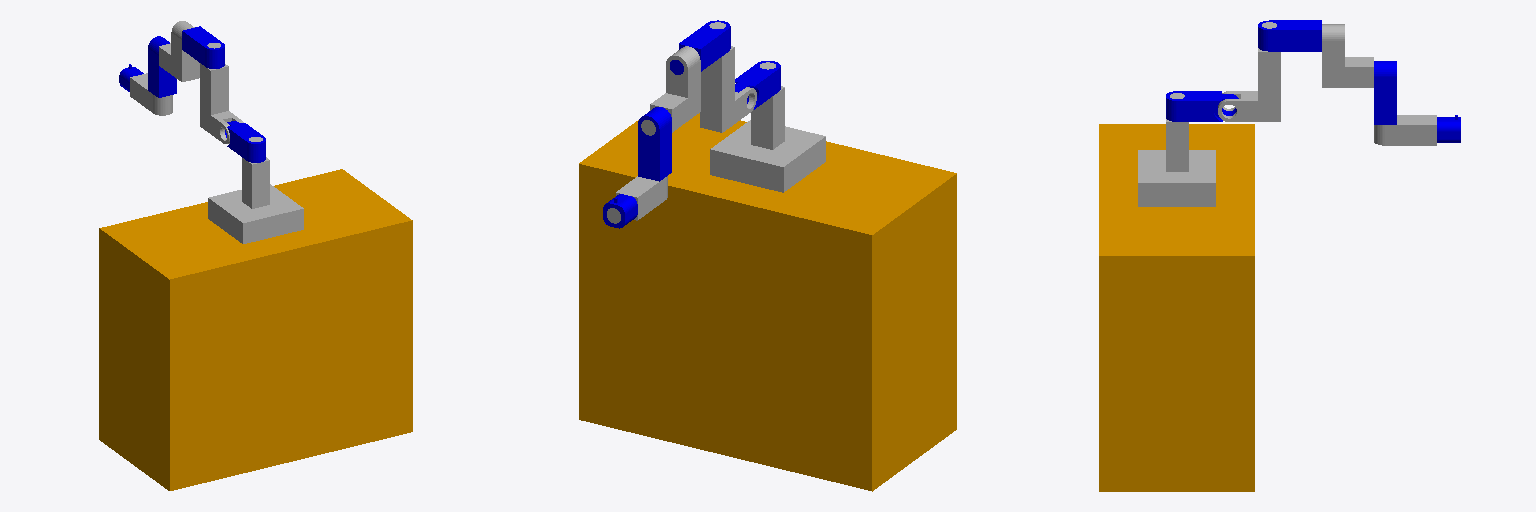
robot.urdf — robot:
<?xml version="1.0"?>

<robot name="robot">


  <!-- Color of materials -->
  <material name="yellow">
    <color rgba="1 1 0 1"/>
  </material>
  <material name="blue">
    <color rgba="0 0 1 1"/>
  </material>
  <material name="red">
    <color rgba="1 0 0 1"/>
  </material>
  <material name="grey">
    <color rgba="0.75 0.75 0.75 1"/>
  </material>

  <link name="right_leg">
    <visual>
      <geometry>
        <box size="0.6 0.3 0.5"/>
      </geometry>
      <origin rpy="0 0 0" xyz="0 0 0.25"/> 
    </visual>

    <collision>
      <geometry>
        <box size="0.6 0.3 0.5"/>
      </geometry>
      <origin rpy="0 0 0" xyz="0 0 0.25"/> 
    </collision>
    
    <inertial> 
      <mass value="10" /> <!-- kg -->
      <inertia ixx="1.0" ixy="0.0" ixz="0.0" 
               iyy="1.0" iyz="0.0" izz="1.0" /> 
    </inertial>
  </link>
  <gazebo reference= "right_leg">
    <material>Gazebo/Black</material>
  </gazebo>

  <joint name="joint0" type="fixed">
    <parent link="right_leg"/>
    <child link="base_link"/>
  </joint> 

  <link name="base_link">
    <visual>
     <geometry>
       <mesh filename="package://dishap/meshes1/Base2.stl" scale="0.001 0.001 0.001"/>   
     </geometry>
     <origin rpy="1.5708 0 1.5708" xyz="0 0 0.6775"/>  <!-- rpy= "1.5708 0 0"-->
     <material name="grey" /> 
    </visual>

    <collision>
     <geometry>
       <mesh filename="package://dishap/meshes1/Base2.stl" scale="0.001 0.001 0.001"/>   
     </geometry>
     <origin rpy="1.5708 0 1.5708" xyz="0 0 0.6775"/> 
    </collision>

    <inertial> 
      <mass value="10" /> <!-- kg -->
      <inertia ixx="1.0" ixy="0.0" ixz="0.0" 
               iyy="1.0" iyz="0.0" izz="1.0" /> 
    </inertial>
  </link>
  <gazebo reference= "base_link">
    <material>Gazebo/Gray</material>
  </gazebo>


  <joint name="joint1" type="revolute">
    <parent link="base_link"/>
    <child link="link1"/>
    <origin xyz="0 0  0.6775"/>
    <axis xyz="0 0 1" />
    <limit effort="300" velocity="0.1" lower="-3.1" upper="3.1"/>
  </joint>


  <link name="link1">
    <visual>
    <geometry>
       <mesh filename="package://dishap/meshes1/Link1.stl" scale="0.001 0.001 0.001"/>   
    </geometry>
    <origin rpy="1.5708  0 1.5708" xyz="0 0 -0.0225"/>    <!-- rpy= "1.5708 0 0"-->
    <material name="blue" />
    </visual>

    <collision>
     <geometry>
       <mesh filename="package://dishap/meshes1/Link1.stl" scale="0.001 0.001 0.001"/>   
     </geometry>
     <origin rpy="1.5708 0 1.5708" xyz="0 0 -0.0225"/> 
    </collision>

    <inertial> 
      <mass value="0.1" />
      <inertia ixx="1.0" ixy="0.0" ixz="0.0" 
               iyy="1.0" iyz="0.0" izz="1.0" /> 
    </inertial>
  </link>
  <gazebo reference= "link1">
    <material>Gazebo/White</material>
  </gazebo>


  <joint name="joint2" type="revolute">
    <parent link="link1" />
    <child link="link2_3"  />
    <origin xyz="0 0.1  0"/>
    <axis xyz="-1 0 0" />
    <limit effort="300" velocity="0.1" lower="-3.1" upper="3.1"/>
  </joint>


  <link name="link2_3">
    <visual>
    <geometry>
       <mesh filename="package://dishap/meshes1/Link2_3.stl" scale="0.001 0.001 0.001"/>   
    </geometry>
    <origin rpy="1.5708 0  0" xyz="-0.0225 0 0"/>  <!-- rpy= "1.5708 0  -1.5708" -->
    <material name="grey" /> 
    </visual>

    <collision>
     <geometry>
       <mesh filename="package://dishap/meshes1/Link2_3.stl" scale="0.001 0.001 0.001"/>   
     </geometry>
     <origin rpy="1.5708 0 0" xyz="-0.0225 0 0"/> 
    </collision>

    <inertial> 
      <mass value="0.1" />
      <inertia ixx="1.0" ixy="0.0" ixz="0.0" 
               iyy="1.0" iyz="0.0" izz="1.0" />
    </inertial>
  </link>
  <gazebo reference= "link2_3">
    <material>Gazebo/Gray</material>
  </gazebo>


  <joint name="joint3" type="revolute">
    <parent link="link2_3" />
    <child link="link4"  />
    <origin xyz="0 0.0775 0.15"/>
    <axis xyz="0 0 1" />
    <limit effort="300" velocity="0.1" lower="-3.1" upper="3.1"/>
  </joint>


  <link name="link4">
    <visual>
    <geometry>
       <mesh filename="package://dishap/meshes1/Link4.stl" scale="0.001 0.001 0.001"/>   
    </geometry>
    <origin rpy="1.5708 0 0" xyz="0 0 -0.0225"/>    <!-- rpy= "1.5708 0  -1.5708" -->
    <material name="blue" />
    </visual>

    <collision>
     <geometry>
       <mesh filename="package://dishap/meshes1/Link4.stl" scale="0.001 0.001 0.001"/>   
     </geometry>
     <origin rpy="1.5708 0 0" xyz="0 0 -0.0225"/> 
    </collision>

    <inertial> 
      <mass value="0.1" />
      <inertia ixx="1.0" ixy="0.0" ixz="0.0" 
               iyy="1.0" iyz="0.0" izz="1.0" />
    </inertial>
  </link>
  <gazebo reference= "link4">
    <material>Gazebo/White</material>
  </gazebo>


  <joint name="joint4" type="revolute">
    <parent link="link4" />
    <child link="link5_6"  />
    <origin xyz="0 0.1225  0"/>
    <axis xyz="0 1 0" />
    <limit effort="300" velocity="0.1" lower="-3.1" upper="3.1"/>
  </joint>


  <link name="link5_6">
    <visual>
    <geometry>
       <mesh filename="package://dishap/meshes1/Link5_6.stl" scale="0.001 0.001 0.001"/>   
    </geometry>
    <origin rpy="1.5708 0 0" xyz="0 0.0225 0"/>  <!-- rpy= "1.5708 0  -1.5708" -->
    <material name="grey" />
    </visual>

    <collision>
     <geometry>
       <mesh filename="package://dishap/meshes1/Link5_6.stl" scale="0.001 0.001 0.001"/>  
     </geometry>
     <origin rpy="1.5708 0 0" xyz="0 0.0225 0"/> 
    </collision>

    <inertial> 
      <mass value="0.1" />
      <inertia ixx="1.0" ixy="0.0" ixz="0.0" 
               iyy="1.0" iyz="0.0" izz="1.0" />
    </inertial>
  </link>
  <gazebo reference= "link5_6">
    <material>Gazebo/Gray</material>
  </gazebo>


  <joint name="joint5" type="revolute">
    <parent link="link5_6" />
    <child link="link7"  />
    <origin xyz="0 0.1 -0.0775"/>
    <axis xyz="0 1 0" />
    <limit effort="300" velocity="0.1" lower="-3.1" upper="3.1"/>
  </joint>

  <link name="link7">
    <visual>
    <geometry>
       <mesh filename="package://dishap/meshes1/Link7.stl" scale="0.001 0.001 0.001"/>   
    </geometry>
    <origin rpy="1.5708 0 3.1416" xyz="0 -0.0225 0"/>  <!-- rpy= "1.5708 0  1.5708" -->
    <material name="blue" />
    </visual>

    <collision>
     <geometry>
       <mesh filename="package://dishap/meshes1/Link7.stl" scale="0.001 0.001 0.001"/>   
     </geometry>
     <origin rpy="1.5708 0 3.1416" xyz="0 -0.0225 0"/> 
    </collision>

    <inertial> 
      <mass value="0.1" />
      <inertia ixx="1.0" ixy="0.0" ixz="0.0" 
               iyy="1.0" iyz="0.0" izz="1.0" />
    </inertial>  
  </link>
  <gazebo reference= "link7">
    <material>Gazebo/White</material>
  </gazebo>


  <joint name="joint6" type="revolute">
    <parent link="link7" />
    <child link="link8"  />
    <origin xyz="0 0  -0.1225"/>
    <axis xyz="0 0 -1" />
    <limit effort="300" velocity="0.1" lower="-3.1" upper="3.1"/>
  </joint>


  <link name="link8">
    <visual>
    <geometry>
       <mesh filename="package://dishap/meshes1/Link8.stl" scale="0.001 0.001 0.001"/>   
    </geometry>
    <origin rpy="1.5708 0 1.5708" xyz="0 0 -0.0225"/>  <!-- rpy= "1.5708 0  0" -->
    <material name="grey" />
    </visual>

    <collision>    
     <geometry>
       <mesh filename="package://dishap/meshes1/Link8.stl" scale="0.001 0.001 0.001"/>   
     </geometry>
     <origin rpy="1.5708 0 1.5708" xyz="0 0 -0.0225"/>  
    </collision>

    <inertial> 
      <mass value="0.1" />
      <inertia ixx="1.0" ixy="0.0" ixz="0.0" 
               iyy="1.0" iyz="0.0" izz="1.0" />
    </inertial> 
  </link>
  <gazebo reference= "link8">
    <material>Gazebo/Gray</material>
  </gazebo>

  <joint name="joint7" type="revolute">
    <parent link="link8" />
    <child link="link9"  />
    <origin xyz="0 0.1225 0"/>
    <axis xyz="0 1 0" />
    <limit effort="300" velocity="0.1" lower="-3.1" upper="3.1"/>
  </joint>

  <link name="link9">
    <visual>
    <geometry>
       <mesh filename="package://dishap/meshes1/Link9.stl" scale="0.001 0.001 0.001"/>   
    </geometry>
    <origin rpy="-1.5708 3.1416 0" xyz="0 0 0"/>  <!-- rpy= "1.5708 0  0" -->
    <material name="blue" />
    </visual>

    <collision>    
     <geometry>
       <mesh filename="package://dishap/meshes1/Link8.stl" scale="0.001 0.001 0.001"/>   
     </geometry>
     <origin rpy="-1.5708 3.1416 0" xyz="0 0 -0.0225"/>  
    </collision>

    <inertial> 
      <mass value="0.1" />
      <inertia ixx="1.0" ixy="0.0" ixz="0.0" 
               iyy="1.0" iyz="0.0" izz="1.0" />
    </inertial> 

  </link>

  <gazebo reference= "link9">
    <material>Gazebo/White</material>
  </gazebo>






  <!-- Transmission -->
  <transmission name="trans1">
    <type>transmission_interface/SimpleTransmission</type>
    <joint name="joint1">
      <hardwareInterface>hardware_interface/EffortJointInterface</hardwareInterface>
    </joint>
    <actuator name="motor1">
      <hardwareInterface>hardware_interface/EffortJointInterface</hardwareInterface>
      <mechanicalReduction>1</mechanicalReduction>
    </actuator>
  </transmission>

  <transmission name="trans2">
    <type>transmission_interface/SimpleTransmission</type>
    <joint name="joint2">
      <hardwareInterface>hardware_interface/EffortJointInterface</hardwareInterface>
    </joint>
    <actuator name="motor2">
      <hardwareInterface>hardware_interface/EffortJointInterface</hardwareInterface>
      <mechanicalReduction>1</mechanicalReduction>
    </actuator>
  </transmission>

  <transmission name="trans3">
    <type>transmission_interface/SimpleTransmission</type>
    <joint name="joint3">
      <hardwareInterface>hardware_interface/EffortJointInterface</hardwareInterface>
    </joint>
    <actuator name="motor3">
      <hardwareInterface>hardware_interface/EffortJointInterface</hardwareInterface>
      <mechanicalReduction>1</mechanicalReduction>
    </actuator>
  </transmission>

  <transmission name="trans4">
    <type>transmission_interface/SimpleTransmission</type>
    <joint name="joint4">
      <hardwareInterface>hardware_interface/EffortJointInterface</hardwareInterface>
    </joint>
    <actuator name="motor4">
      <hardwareInterface>hardware_interface/EffortJointInterface</hardwareInterface>
      <mechanicalReduction>1</mechanicalReduction>
    </actuator>
  </transmission>

  <transmission name="trans5">
    <type>transmission_interface/SimpleTransmission</type>
    <joint name="joint5">
      <hardwareInterface>hardware_interface/EffortJointInterface</hardwareInterface>
    </joint>
    <actuator name="motor5">
      <hardwareInterface>hardware_interface/EffortJointInterface</hardwareInterface>
      <mechanicalReduction>1</mechanicalReduction>
    </actuator>
  </transmission>

  <transmission name="trans6">
    <type>transmission_interface/SimpleTransmission</type>
    <joint name="joint6">
      <hardwareInterface>hardware_interface/EffortJointInterface</hardwareInterface>
    </joint>
    <actuator name="motor6">
      <hardwareInterface>hardware_interface/EffortJointInterface</hardwareInterface>
      <mechanicalReduction>1</mechanicalReduction>
    </actuator>
  </transmission>

  <transmission name="trans7">
    <type>transmission_interface/SimpleTransmission</type>
    <joint name="joint7">
      <hardwareInterface>hardware_interface/EffortJointInterface</hardwareInterface>
    </joint>
    <actuator name="motor7">
      <hardwareInterface>hardware_interface/EffortJointInterface</hardwareInterface>
      <mechanicalReduction>1</mechanicalReduction>
    </actuator>
  </transmission>

  <gazebo>
    <plugin name="gazebo_ros_control" filename="libgazebo_ros_control.so">
      <robotNamespace>/robot</robotNamespace>
      <legacyModeNS>true</legacyModeNS>
    </plugin>
  </gazebo>

</robot>

--- Render facts (derived) ---
3 views of the same robot in one strip: view 1: azimuth 30°, elevation 25°; view 2: azimuth 150°, elevation 25°; view 3: azimuth 270°, elevation 25° (orthographic).
Robot: robot — 9 links, 8 joints (7 revolute, 1 fixed); root link right_leg; default pose: all joints at 0.
Links seen in each view (by area): view 1: right_leg, base_link, link2_3, link5_6, link4, link1, link7, link8; view 2: right_leg, base_link, link2_3, link5_6, link7, link4, link8, link1, link9; view 3: right_leg, base_link, link2_3, link5_6, link4, link1, link8, link7, link9.
Boxes of the visible links, x1,y1,x2,y2 form: right_leg: (99,169,412,490); base_link: (208,137,303,243); link2_3: (200,43,243,143); link5_6: (159,21,199,81); link4: (182,26,224,68); link1: (225,121,265,162); link7: (148,36,176,97); link8: (130,73,172,115); right_leg: (579,113,956,491); base_link: (710,62,825,192); link2_3: (700,22,756,132); link5_6: (641,46,700,135); link7: (638,107,671,181); link4: (670,20,730,74); link8: (607,176,667,223); link1: (735,61,780,109); link9: (603,194,637,228); right_leg: (1099,124,1254,491); base_link: (1138,93,1215,206); link2_3: (1218,22,1280,121); link5_6: (1322,24,1373,87); link4: (1258,20,1321,51); link1: (1166,91,1238,121); link8: (1374,115,1436,145); link7: (1374,61,1396,124); link9: (1437,115,1460,142).
Bounding box of the posed robot: 0.6 × 0.695 × 0.85 m (x, y, z).
Meshes: 8 distinct files referenced, 8 mesh visuals loaded (8 binary STL).